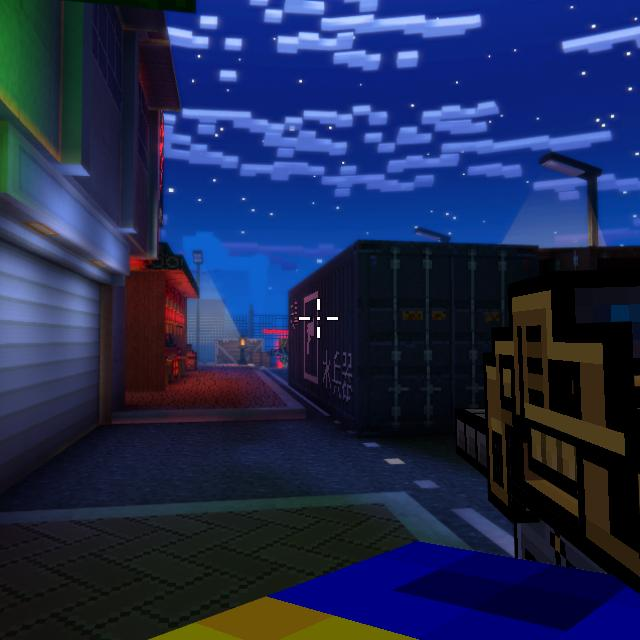Enemy: (276, 338, 288, 368)
